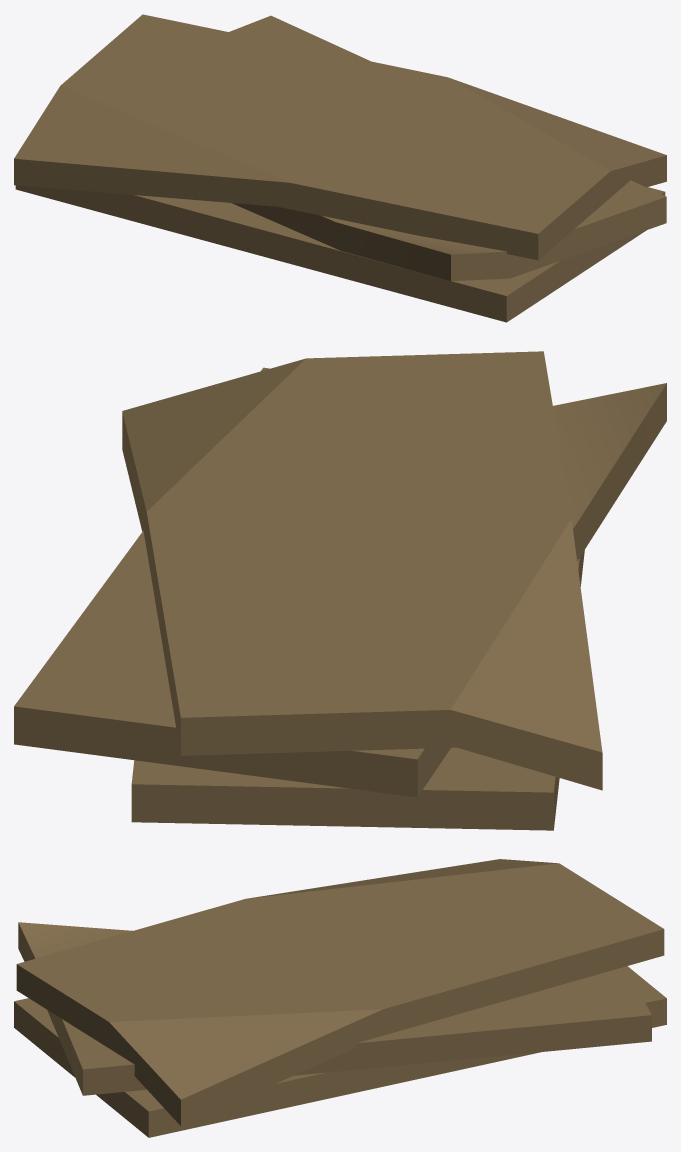
File: SM_Prop_Napkins_01.glb
3 views of the same model, one above another, from view 1: azimuth 30°, elevation 25°; view 2: azimuth 150°, elevation 25°; view 3: azimuth 270°, elevation 25° (orthographic). The views are drawn at different scales.
Visible parts, largest first — view 1: SM_Prop_Napkins_01; view 2: SM_Prop_Napkins_01; view 3: SM_Prop_Napkins_01.
Boxes of the visible parts, x1=… form: SM_Prop_Napkins_01: x1=14, y1=14, x2=666, y2=322; SM_Prop_Napkins_01: x1=14, y1=351, x2=666, y2=830; SM_Prop_Napkins_01: x1=14, y1=859, x2=666, y2=1137.
Size of the model in its own units: 0.2586 by 0.0399 by 0.2965.
1 material, 1 textured.
